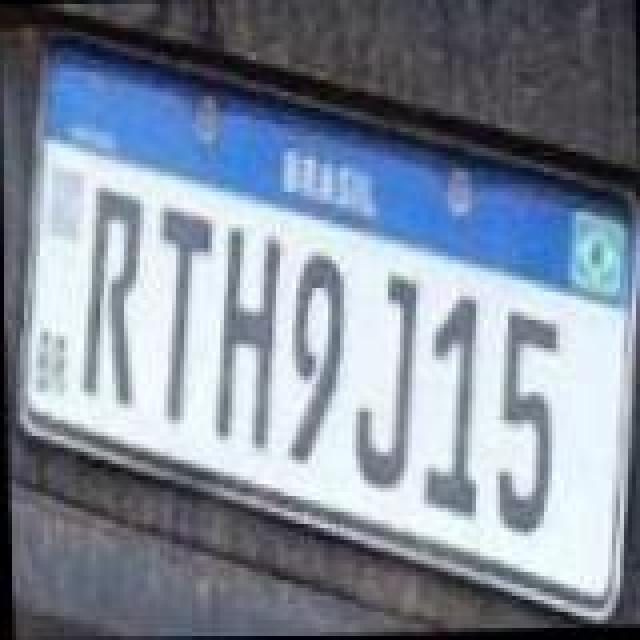1: (414, 292, 486, 516)
5: (488, 310, 568, 542)
9: (280, 248, 352, 464)
H: (202, 230, 286, 458)
J: (350, 274, 430, 490)
R: (74, 186, 150, 410)
T: (154, 202, 222, 422)
